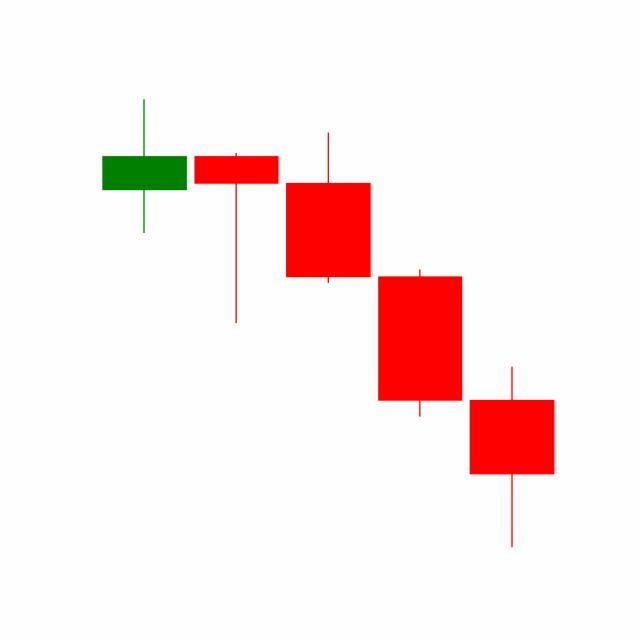Marubozu: (374, 268, 468, 419)
